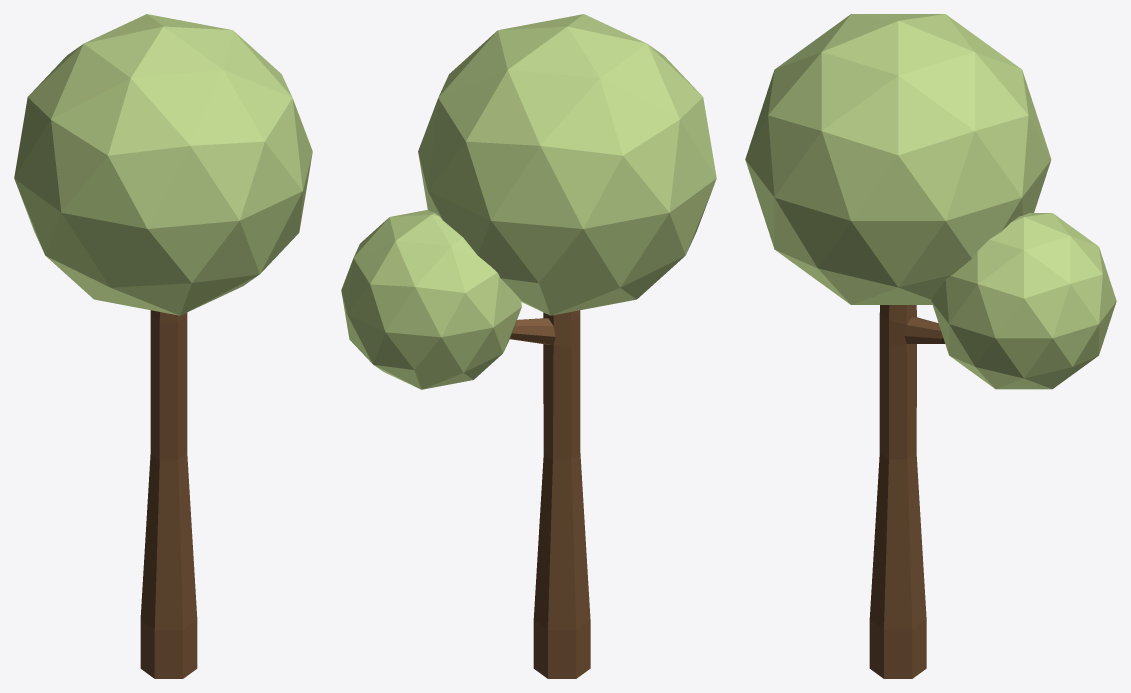
The model's file is CircleTree_AutumnLight.fbx.
The picture shows the model from 3 angles, left to right: view 1: azimuth 30°, elevation 25°; view 2: azimuth 150°, elevation 25°; view 3: azimuth 270°, elevation 25°; orthographic projection.
Visible parts, largest first — view 1: CircleTree_AutumnLight; view 2: CircleTree_AutumnLight; view 3: CircleTree_AutumnLight.
Boxes of the visible parts, x1,y1,x2,y2 form: CircleTree_AutumnLight: (14,14,312,678); CircleTree_AutumnLight: (341,14,716,678); CircleTree_AutumnLight: (745,14,1116,678).
Size of the model in its own units: 147 by 330 by 172.
